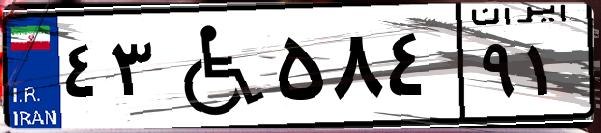1: (525, 38, 570, 115)
3: (110, 28, 158, 98)
4: (385, 28, 445, 110), (57, 26, 110, 100)
5: (270, 28, 330, 110)
8: (330, 28, 385, 110)
9: (475, 38, 525, 113)
ژ (معلولین و جانبازان): (158, 12, 270, 120)
